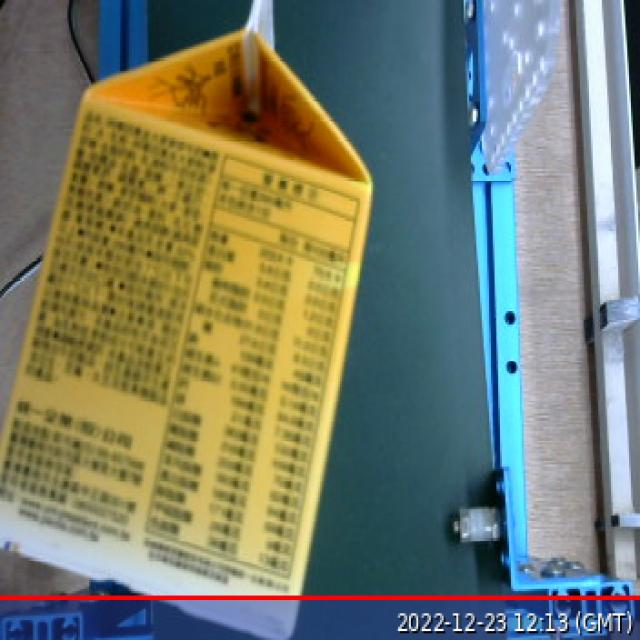non_white_jug: (0, 1, 391, 640)
